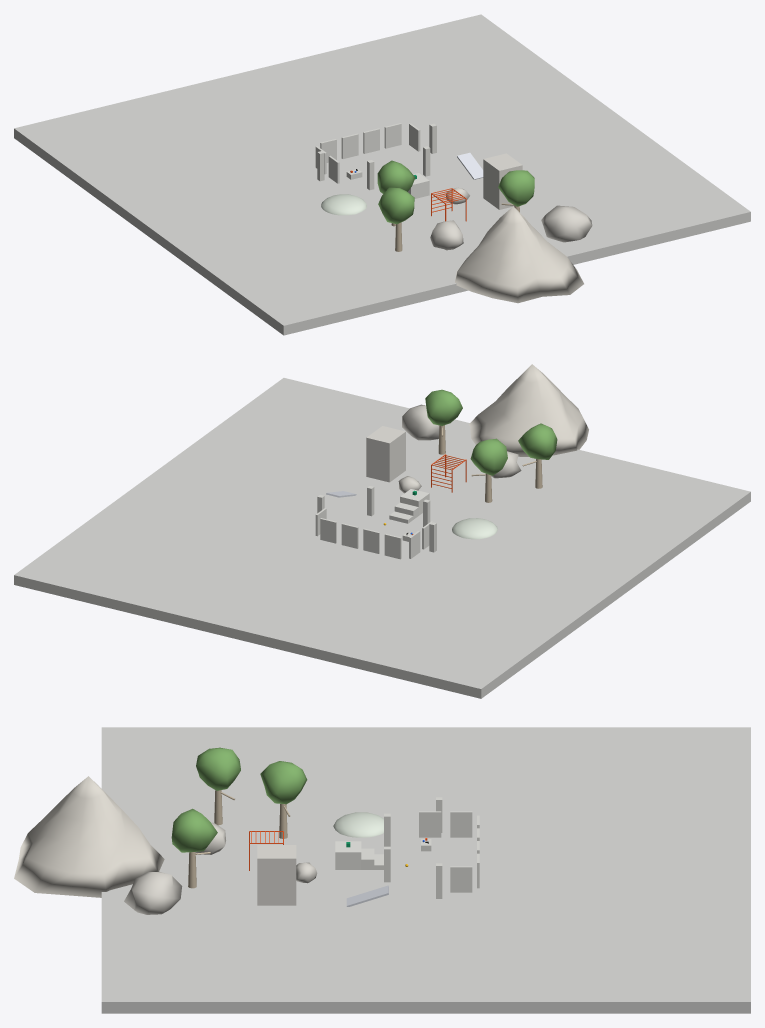
The model's file is room.glb.
3 views of the same model, one above another, from view 1: azimuth 30°, elevation 25°; view 2: azimuth 150°, elevation 25°; view 3: azimuth 270°, elevation 25° (orthographic). The views are drawn at different scales.
Parts seen in each view (by area): view 1: ColBox_Floor, Col_Mount, Col_Boulder_3, ColBox_ClimbTower, Canopy_2, Canopy_3, Canopy_1, Col_Hill, Col_Boulder_2; view 2: ColBox_Floor, Col_Mount, ColBox_ClimbTower, Canopy_2, Canopy_3, Canopy_1, Col_Boulder_3, Col_Hill; view 3: ColBox_Floor, Col_Mount, ColBox_ClimbTower, Col_Boulder_3, Canopy_2, Canopy_1, Canopy_3, Col_Hill, ColBox_Platform, ColBox_CardStand_4, ColBox_CardStand_5, ColBox_CardStand_6.
Part boxes in pixels (left/top/right/bottom): ColBox_Floor: left=14, top=14, right=750, bottom=335; Col_Mount: left=455, top=206, right=583, bottom=303; Col_Boulder_3: left=541, top=205, right=592, bottom=242; ColBox_ClimbTower: left=483, top=153, right=522, bottom=209; Canopy_2: left=378, top=187, right=414, bottom=224; Canopy_3: left=498, top=170, right=534, bottom=206; Canopy_1: left=377, top=160, right=415, bottom=193; Col_Hill: left=321, top=194, right=366, bottom=215; Col_Boulder_2: left=430, top=220, right=463, bottom=250; ColBox_Floor: left=14, top=378, right=750, bottom=698; Col_Mount: left=469, top=364, right=588, bottom=456; ColBox_ClimbTower: left=366, top=426, right=405, bottom=482; Canopy_2: left=518, top=423, right=557, bottom=459; Canopy_3: left=425, top=389, right=462, bottom=425; Canopy_1: left=470, top=438, right=507, bottom=475; Col_Boulder_3: left=402, top=404, right=439, bottom=440; Col_Hill: left=452, top=518, right=497, bottom=539; ColBox_Floor: left=101, top=727, right=750, bottom=1013; Col_Mount: left=14, top=776, right=164, bottom=897; ColBox_ClimbTower: left=257, top=845, right=296, bottom=905; Col_Boulder_3: left=124, top=872, right=182, bottom=914; Canopy_2: left=196, top=747, right=240, bottom=790; Canopy_1: left=260, top=761, right=307, bottom=804; Canopy_3: left=171, top=808, right=217, bottom=852; Col_Hill: left=333, top=812, right=383, bottom=837; ColBox_Platform: left=335, top=841, right=361, bottom=869; ColBox_CardStand_4: left=450, top=811, right=472, bottom=837; ColBox_CardStand_5: left=450, top=866, right=472, bottom=892; ColBox_CardStand_6: left=419, top=811, right=441, bottom=837.
Size of the model in its own units: 50 by 8.06 by 56.74.
